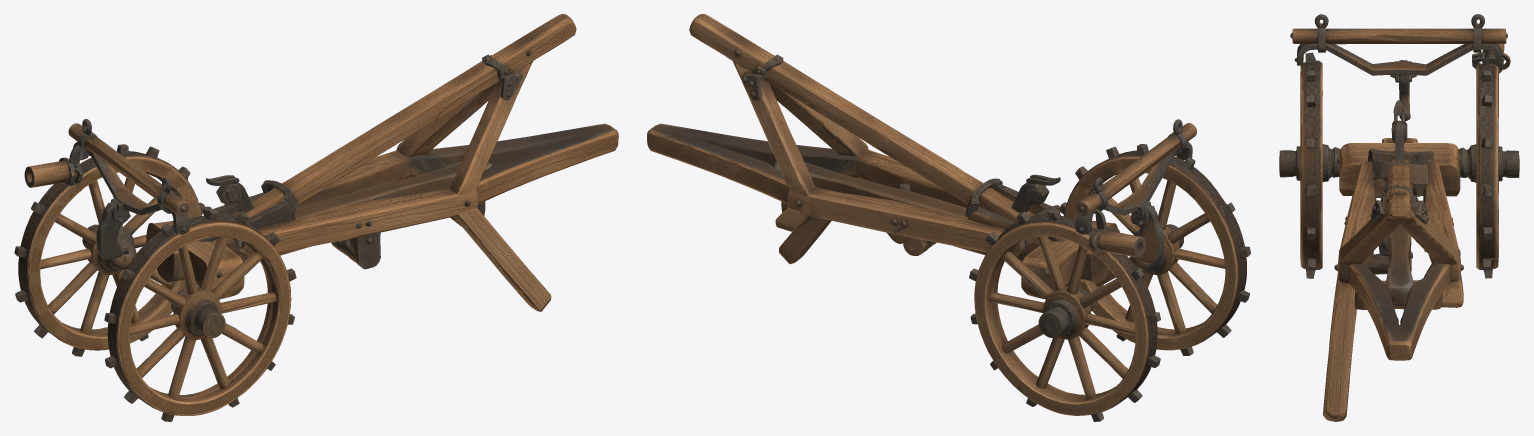
The model's file is wooden_plough.glb.
3 views of the same model, side by side, from view 1: azimuth 30°, elevation 25°; view 2: azimuth 150°, elevation 25°; view 3: azimuth 270°, elevation 25° (orthographic).
Size of the model in its own units: 1.9 by 0.8727 by 0.7273.
Materials: 1 (1 with a texture image).
